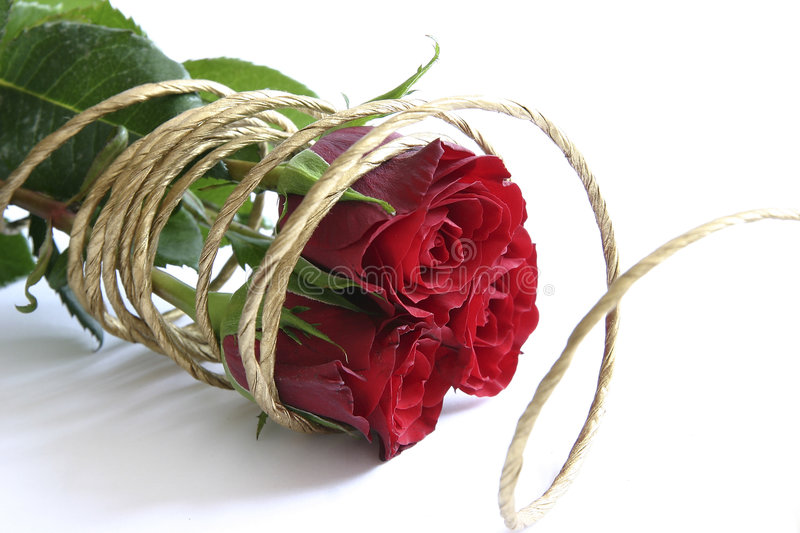RedRose: (224, 281, 463, 470), (292, 162, 501, 326)
